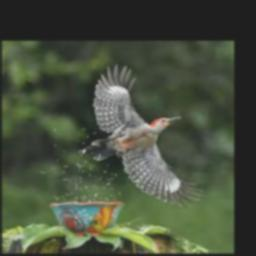Woodpecker: (84, 65, 203, 205)
